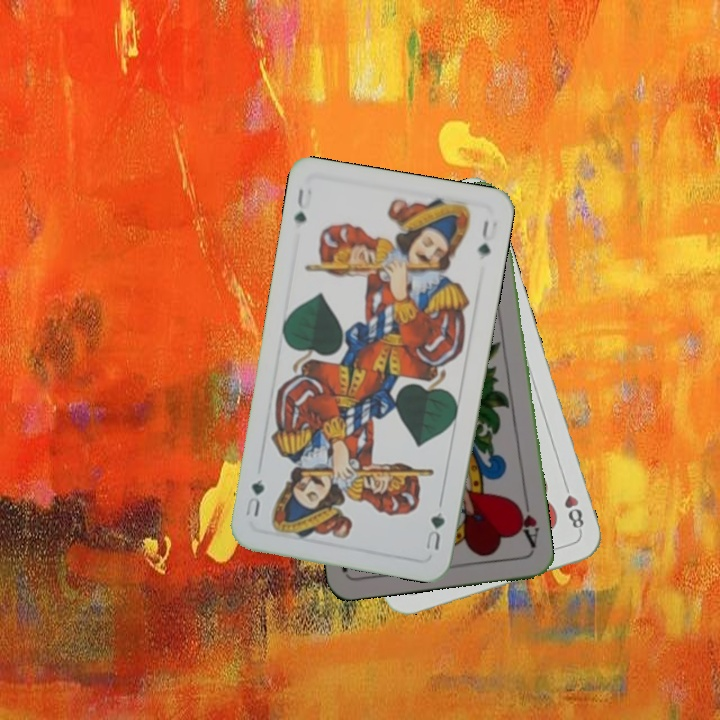GU: (421, 508, 448, 553), (290, 184, 315, 226)
H8: (559, 477, 587, 535)
HA: (511, 493, 542, 551)
